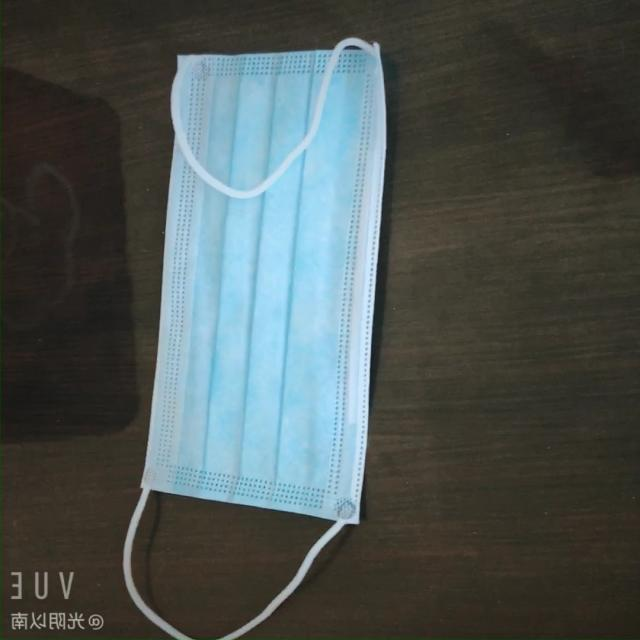face mask: (140, 45, 408, 532)
